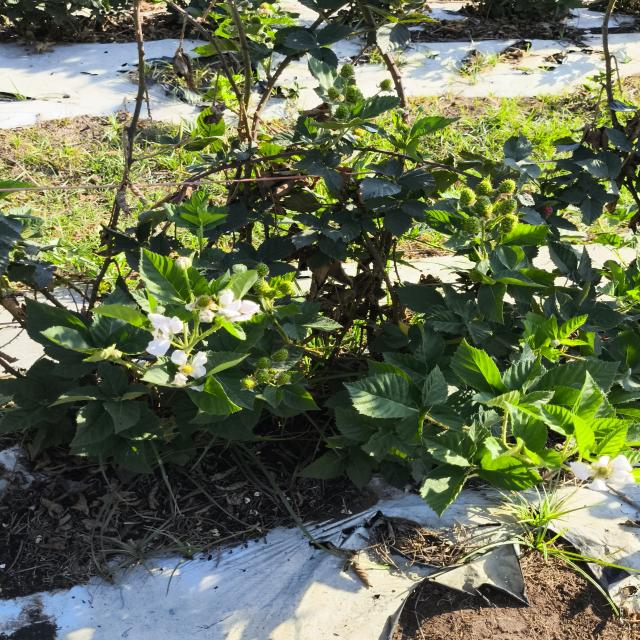boton: (175, 256, 192, 270), (232, 264, 247, 274)
flor: (147, 313, 182, 356), (216, 289, 260, 322), (171, 350, 207, 386)
